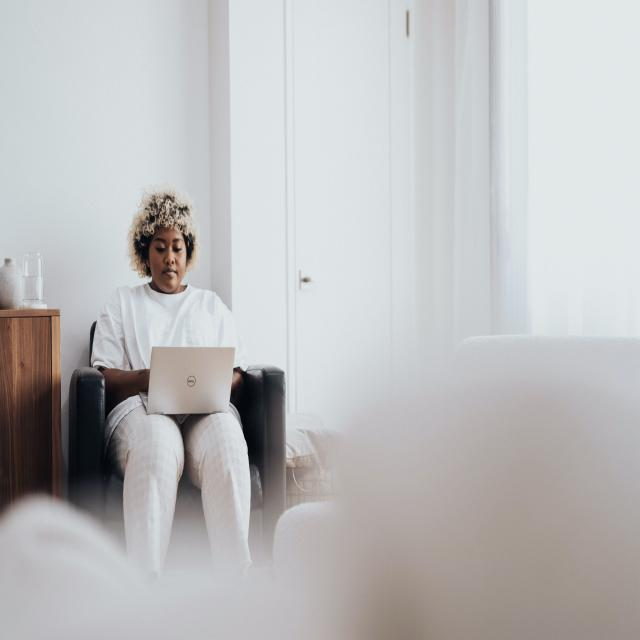nonfall: (90, 179, 267, 556)
